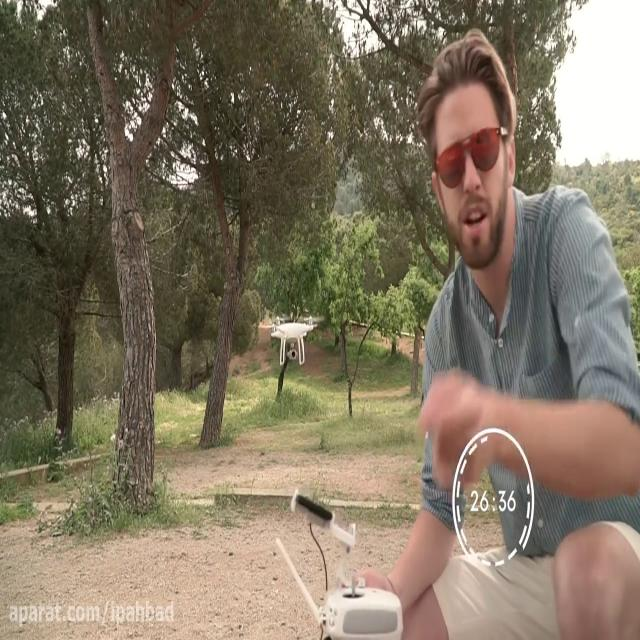drone: (260, 311, 324, 366)
